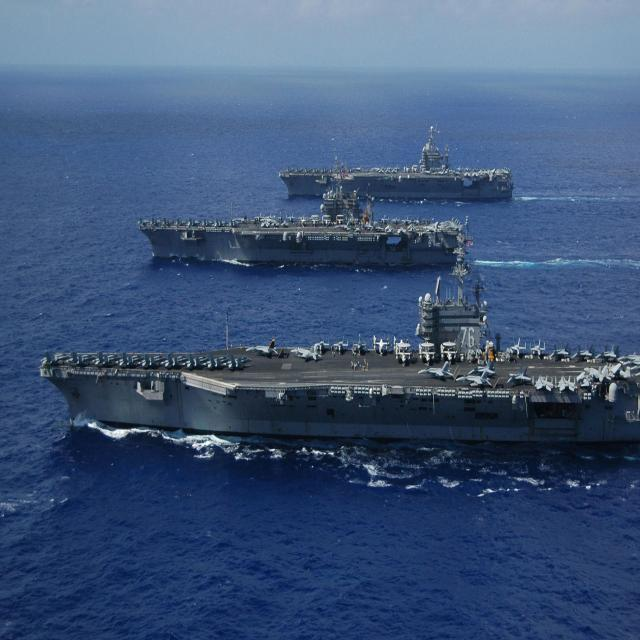navalvessels: (34, 254, 640, 451), (137, 189, 465, 269), (272, 132, 520, 205)
